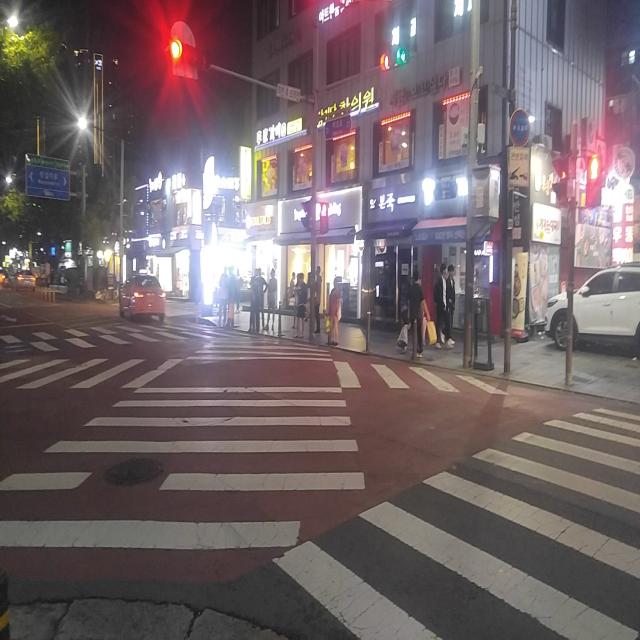횡단보도: (273, 357, 640, 638), (1, 328, 370, 555)
